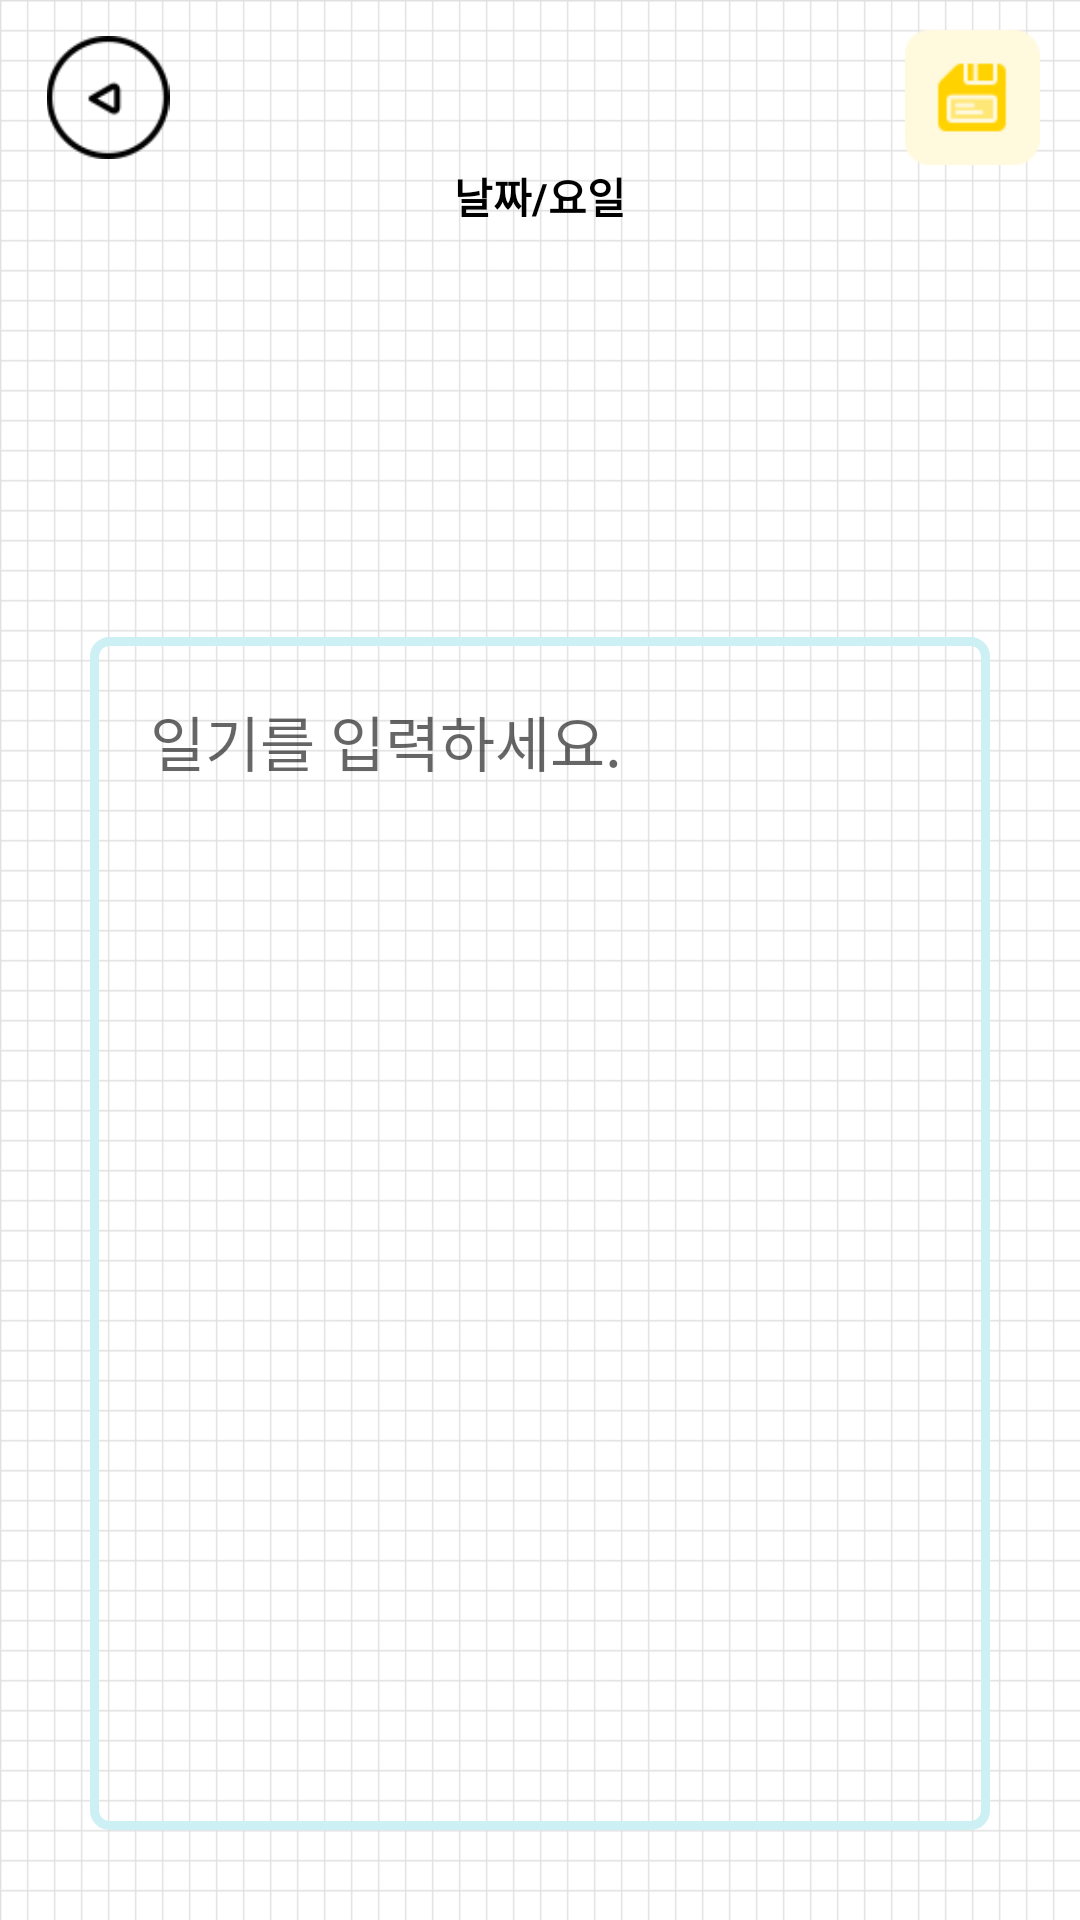

Where icons sit on this 1080x1920 app screen, as [x1=x1, y1=y1, x2=x2, y2=y2]:
back: [x1=6, y1=36, x2=210, y2=159]
savebtn: [x1=864, y1=30, x2=1080, y2=165]
